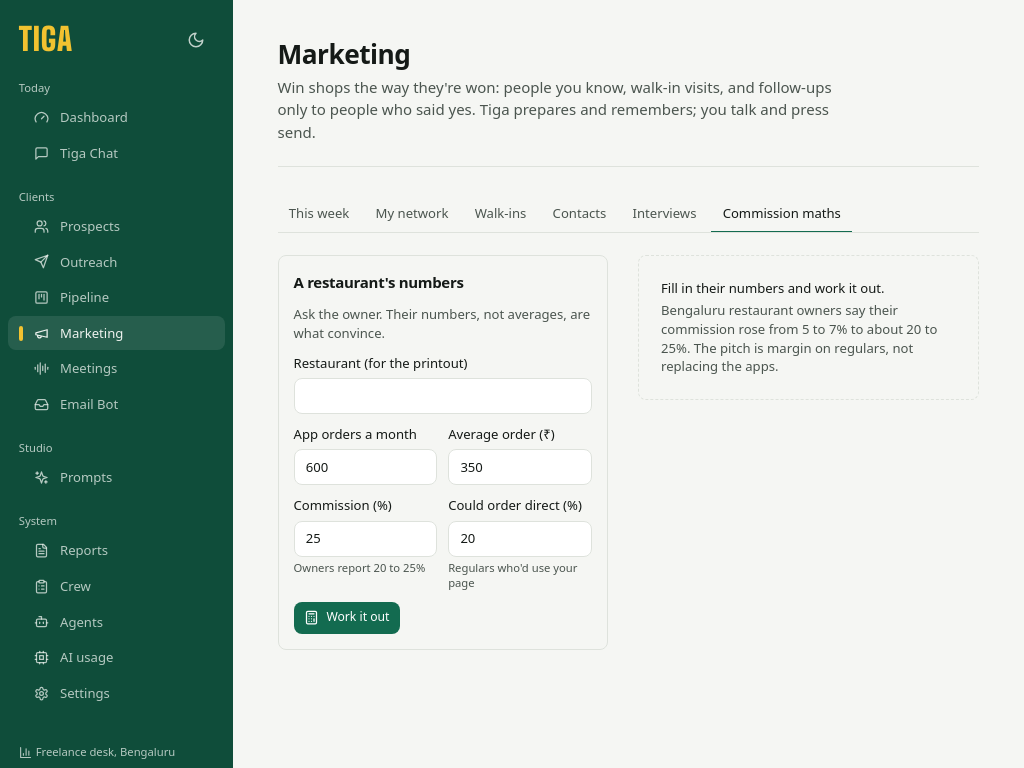
Test case: Marketing › works out the commission maths for a restaurant and links a printout
Type "Udupi Tiffins" into the field labelled "Restaurant (for the printout)" at (442, 396), box [294,378,592,414]
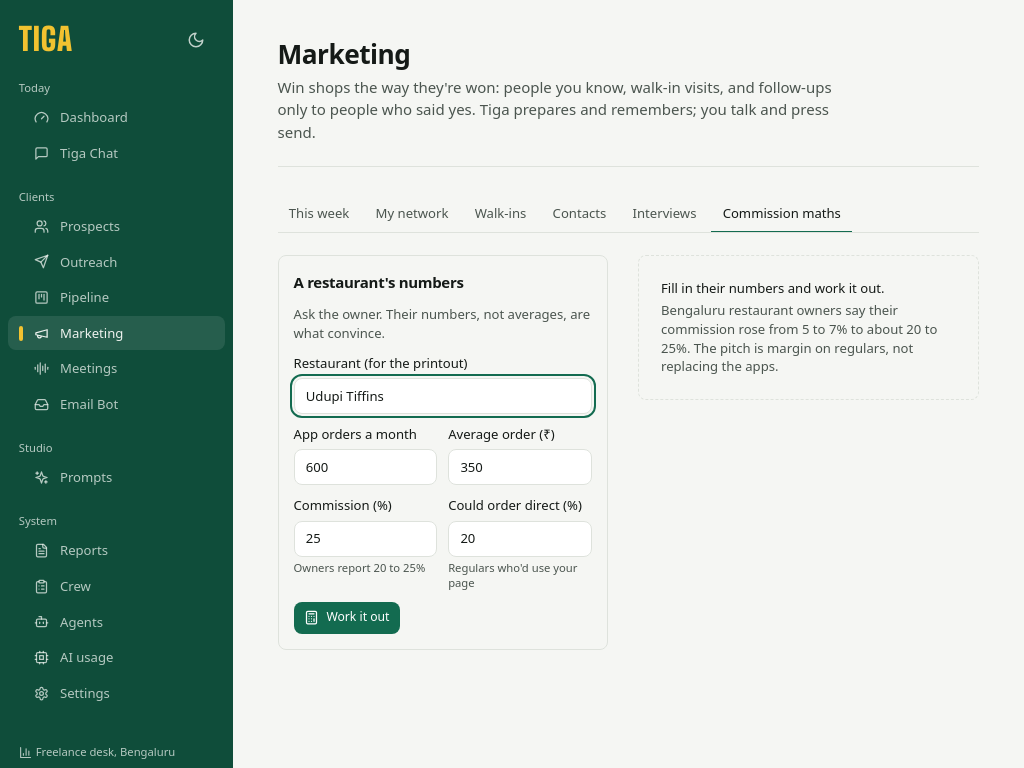
Click the button "Work it out" at (347, 618), box [294,602,400,634]
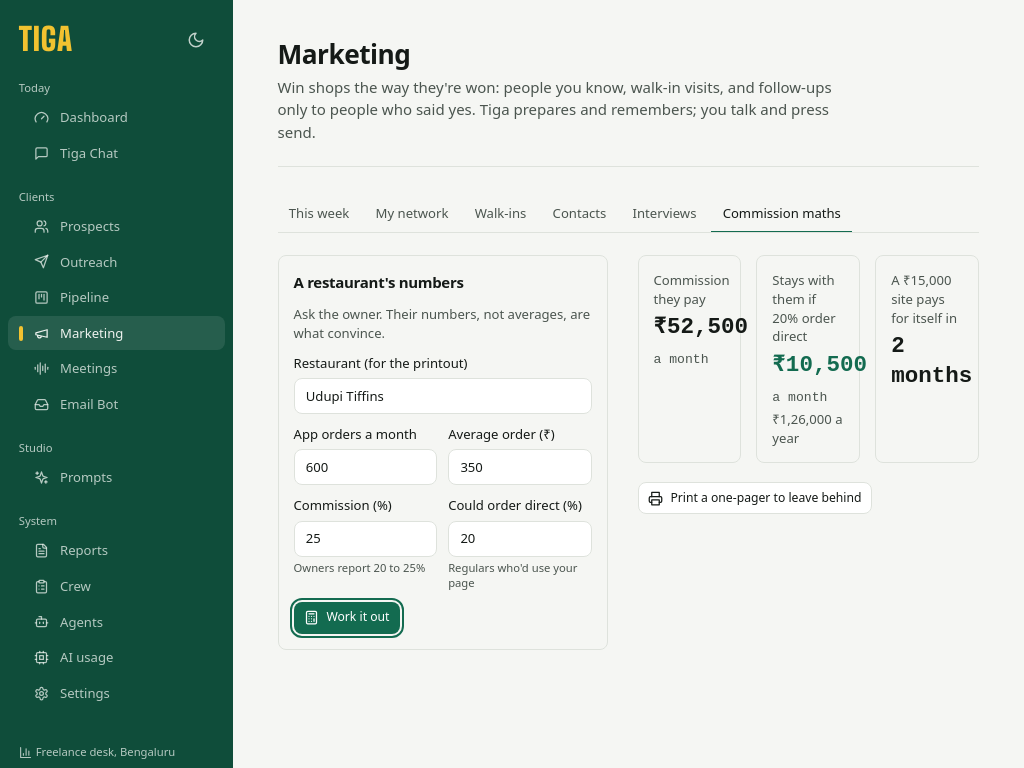
Expected: the text "₹52,500" is shown, [654,314,748,340]
Expected: the text "2 months" is shown, [891,331,963,391]
